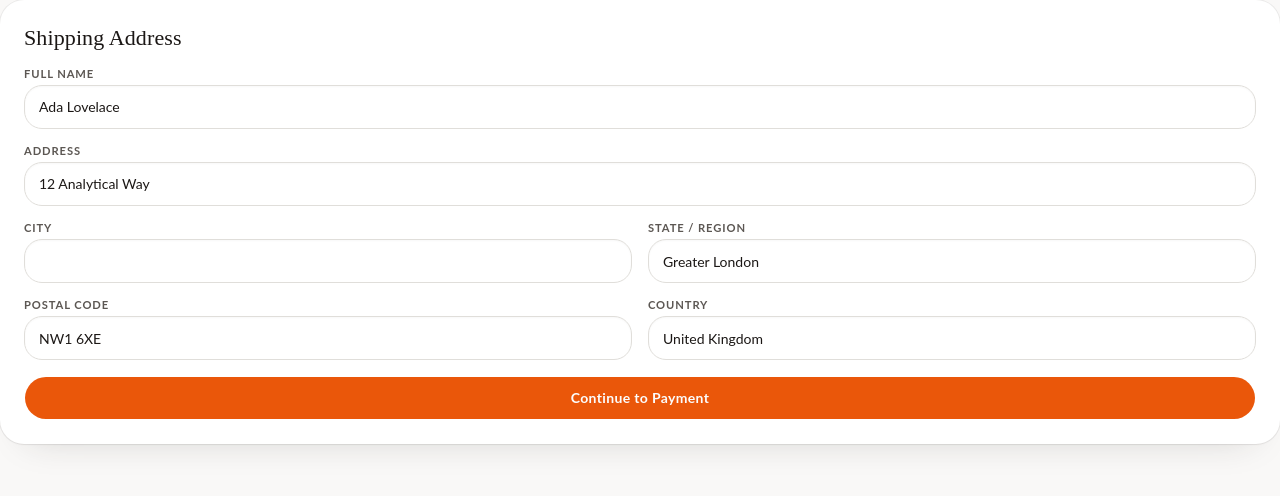
Test: AddressStep › treats a whitespace-only value as missing
Click the button "Continue to Payment". click: (640, 398)
box: [24,376,1256,420]
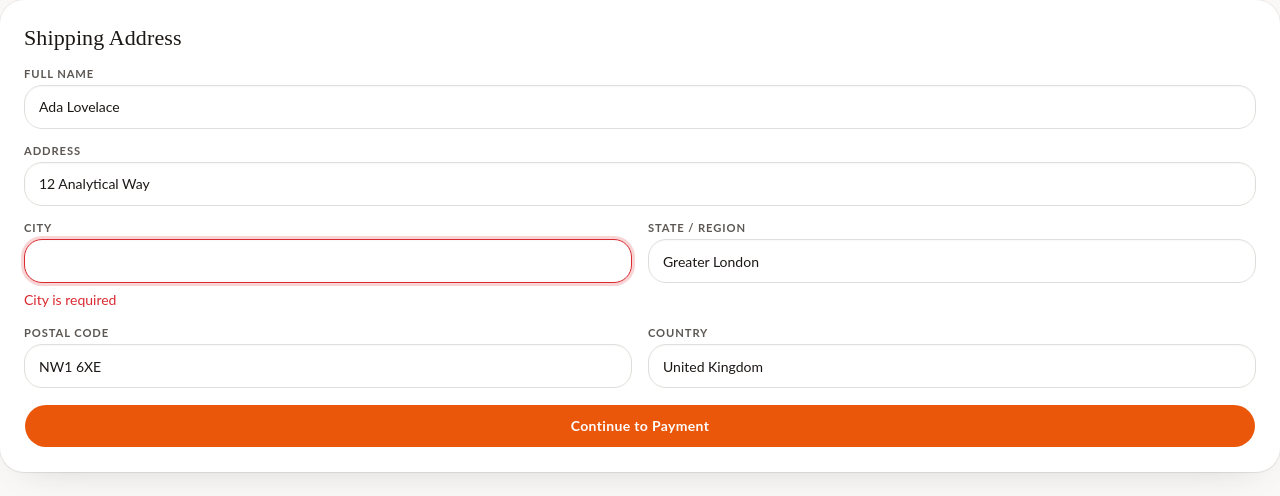
Expected: the text "City is required" is shown, [24,291,116,308]
